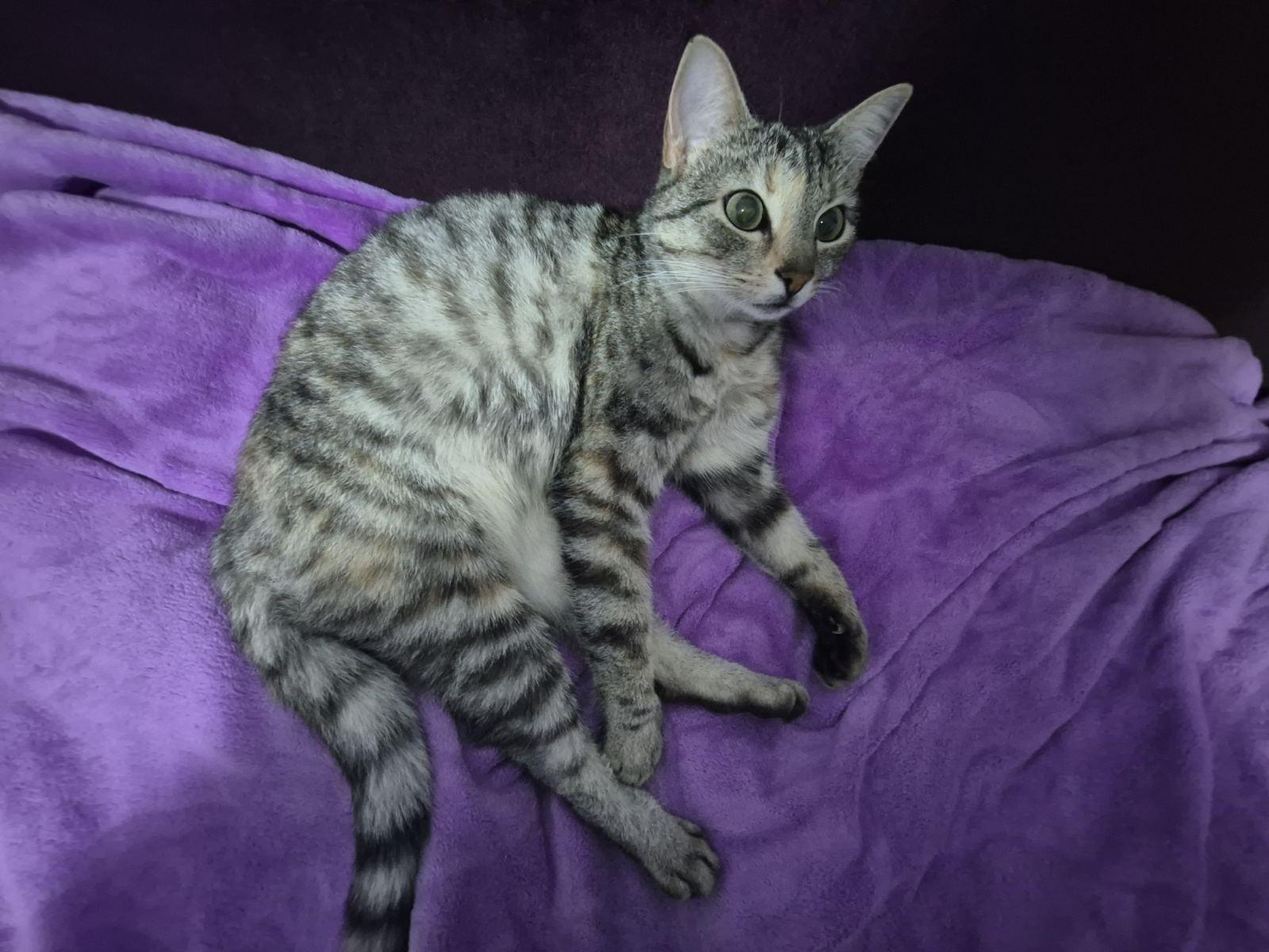macka: (212, 30, 912, 952)
